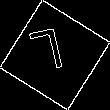L_S: (34, 27, 76, 83)
